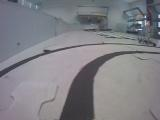tl_red: (145, 20, 150, 38)
